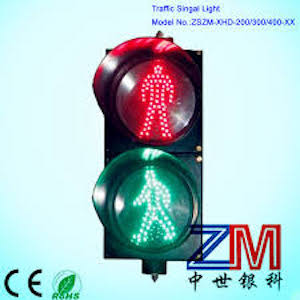green: (127, 163, 184, 240)
red: (128, 57, 181, 139)
